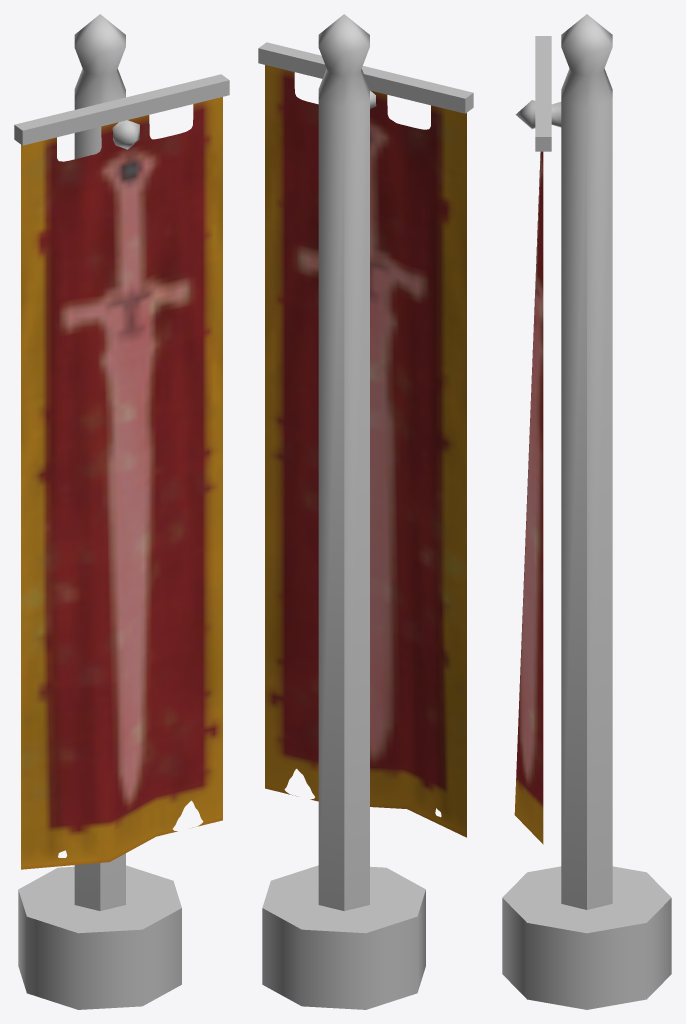
Rendered from Sign_2A.fbx.
3 renders of one model, left to right at view 1: azimuth 30°, elevation 25°; view 2: azimuth 150°, elevation 25°; view 3: azimuth 270°, elevation 25°, orthographic.
Parts seen in each view (by area): view 1: Alpha, polySurface7487; view 2: Alpha, polySurface7487; view 3: polySurface7487, Alpha.
Part boxes in pixels (bbox=[...]): Alpha: bbox=[21, 97, 222, 869]; polySurface7487: bbox=[14, 14, 229, 1009]; Alpha: bbox=[265, 65, 466, 837]; polySurface7487: bbox=[258, 14, 473, 1009]; polySurface7487: bbox=[502, 14, 671, 1009]; Alpha: bbox=[514, 151, 543, 844].
Size of the model in its own units: 0.5645 by 2.51 by 0.4.
